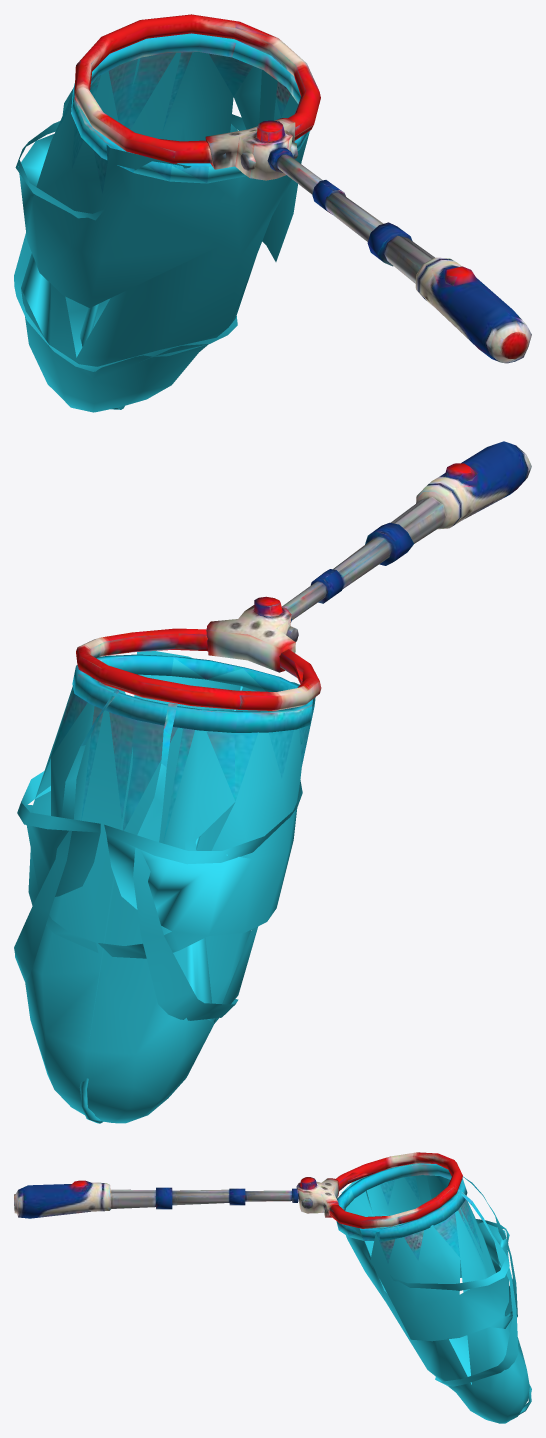
Rendered from net.glb.
3 renders of one model, top to bottom at view 1: azimuth 30°, elevation 25°; view 2: azimuth 150°, elevation 25°; view 3: azimuth 270°, elevation 25°, orthographic. The views are drawn at different scales.
Visible parts, largest first — view 1: Net; view 2: Net; view 3: Net.
Boxes of the visible parts, x1,y1,x2,y2 form: Net: (14,14,531,412); Net: (14,441,531,1123); Net: (14,1152,531,1423).
Size of the model in its own units: 0.4907 by 0.8306 by 1.57.
2 materials, 1 textured.
